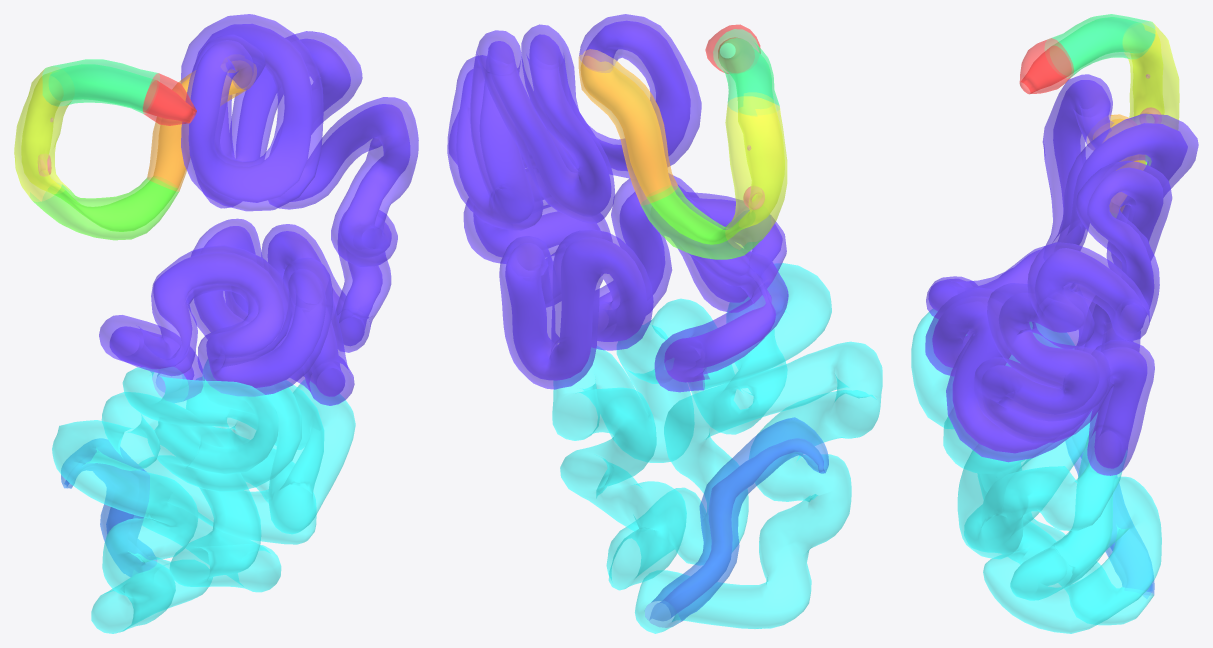
Rendered from duenndarm-male.glb.
The picture shows the model from 3 angles, left to right: view 1: azimuth 30°, elevation 25°; view 2: azimuth 150°, elevation 25°; view 3: azimuth 270°, elevation 25°; orthographic projection. The views are drawn at different scales.
Visible parts, largest first — view 1: 0:10:VH_M_jejunum, 0:9:VH_M_ileum, 0:8:VH_M_ileum_terminal, 0:2:VH_M_duodenum_horizonal, 0:1:VH_M_duodenum_descending, 0:4:VH_M_duodenum_superior, 0:0:VH_M_duodenum_ascending, 0:3:VH_M_duodenal_ampulla; view 2: 0:10:VH_M_jejunum, 0:9:VH_M_ileum, 0:8:VH_M_ileum_terminal, 0:1:VH_M_duodenum_descending, 0:0:VH_M_duodenum_ascending, 0:2:VH_M_duodenum_horizonal, 0:4:VH_M_duodenum_superior, 0:3:VH_M_duodenal_ampulla; view 3: 0:10:VH_M_jejunum, 0:9:VH_M_ileum, 0:1:VH_M_duodenum_descending, 0:4:VH_M_duodenum_superior, 0:8:VH_M_ileum_terminal, 0:3:VH_M_duodenal_ampulla, 0:0:VH_M_duodenum_ascending.
Boxes of the visible parts, box(x1,y1,x2,y2) form: 0:10:VH_M_jejunum: box(99, 14, 418, 405); 0:9:VH_M_ileum: box(52, 360, 355, 633); 0:8:VH_M_ileum_terminal: box(61, 438, 156, 576); 0:2:VH_M_duodenum_horizonal: box(30, 176, 178, 240); 0:1:VH_M_duodenum_descending: box(14, 66, 71, 201); 0:4:VH_M_duodenum_superior: box(42, 59, 159, 113); 0:0:VH_M_duodenum_ascending: box(147, 60, 256, 191); 0:3:VH_M_duodenal_ampulla: box(143, 73, 196, 125); 0:10:VH_M_jejunum: box(447, 14, 788, 392); 0:9:VH_M_ileum: box(552, 263, 882, 633); 0:8:VH_M_ileum_terminal: box(645, 417, 828, 627); 0:1:VH_M_duodenum_descending: box(725, 92, 787, 249); 0:0:VH_M_duodenum_ascending: box(578, 49, 677, 205); 0:2:VH_M_duodenum_horizonal: box(641, 185, 771, 259); 0:4:VH_M_duodenum_superior: box(713, 29, 779, 115); 0:3:VH_M_duodenal_ampulla: box(705, 24, 760, 73); 0:10:VH_M_jejunum: box(925, 74, 1198, 475); 0:9:VH_M_ileum: box(911, 309, 1161, 633); 0:1:VH_M_duodenum_descending: box(1123, 22, 1179, 129); 0:4:VH_M_duodenum_superior: box(1045, 14, 1155, 77); 0:8:VH_M_ileum_terminal: box(1065, 423, 1154, 598); 0:3:VH_M_duodenal_ampulla: box(1019, 38, 1073, 94); 0:0:VH_M_duodenum_ascending: box(1087, 114, 1145, 213).
Size of the model in its own units: 0.188 by 0.2654 by 0.1222.
